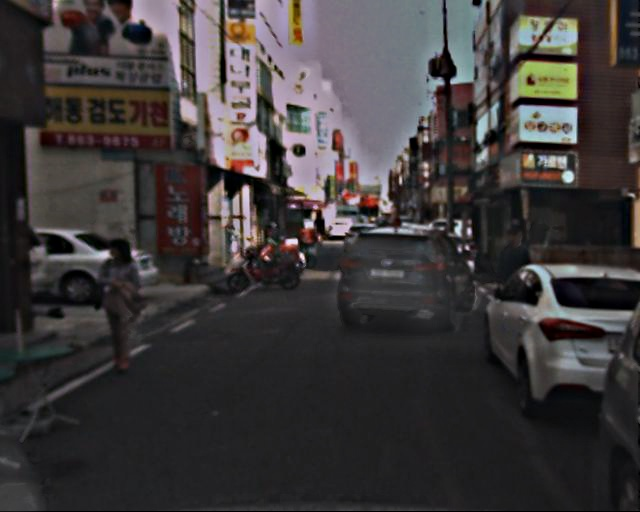person: (91, 233, 158, 374), (495, 226, 544, 334)
